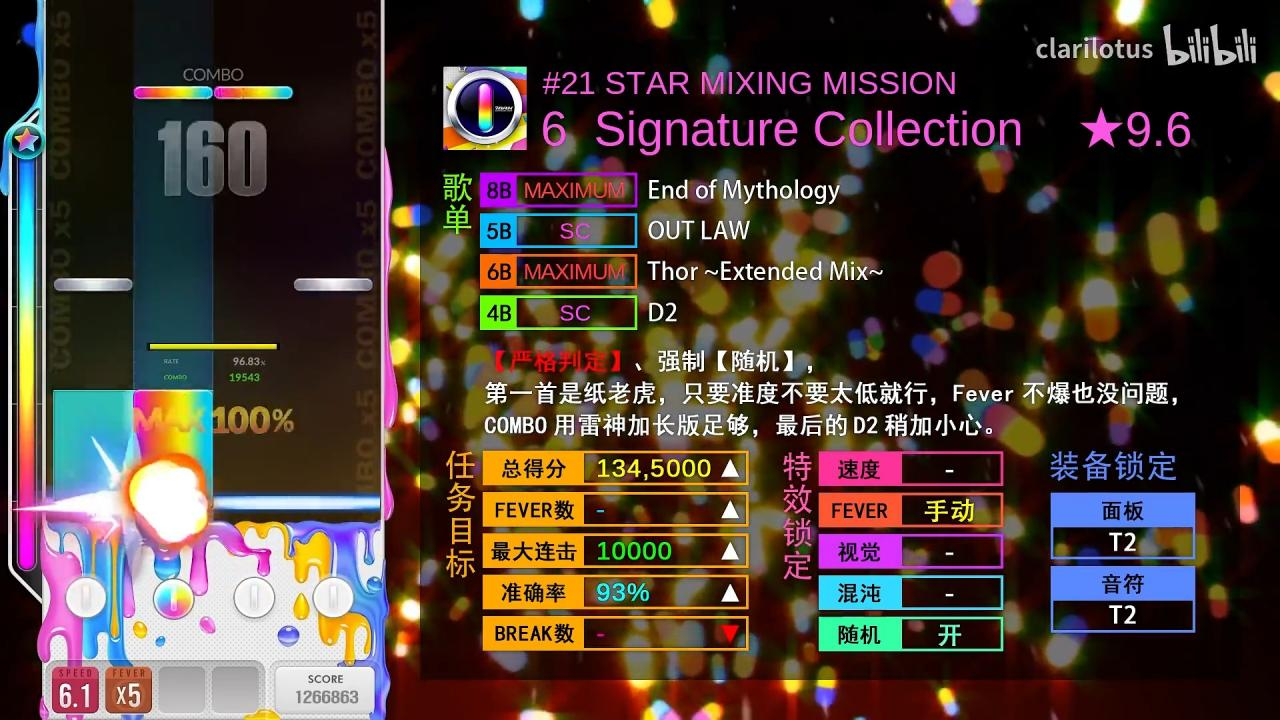hold-end: (133, 389, 213, 406)
note: (294, 277, 373, 292), (54, 277, 132, 292), (214, 86, 293, 100), (134, 86, 212, 100)
side-end: (53, 389, 214, 405)
